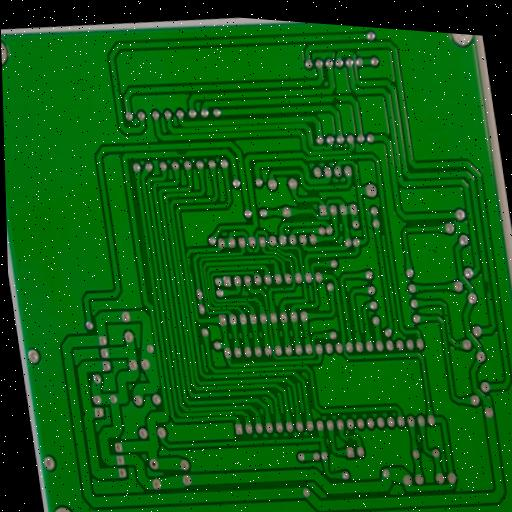mouse_bite: (483, 277, 493, 298), (174, 147, 190, 158), (330, 94, 346, 105), (187, 261, 194, 278), (345, 433, 356, 443)
